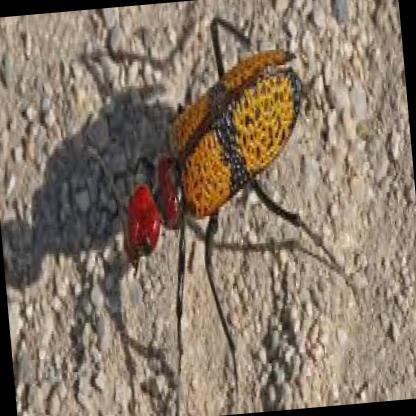blister beetle: (122, 19, 302, 355)
